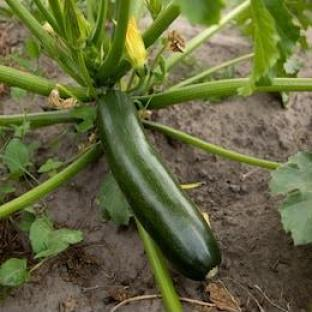Zucchini: (99, 90, 220, 279)
